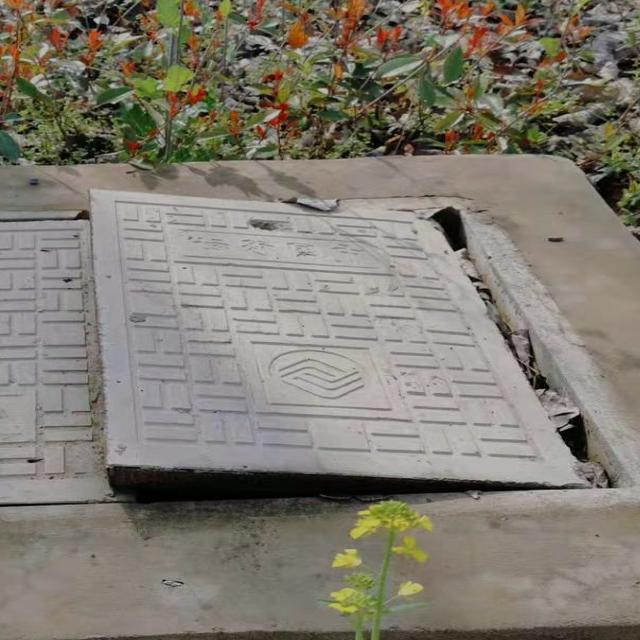uncovered: (0, 186, 640, 537)
